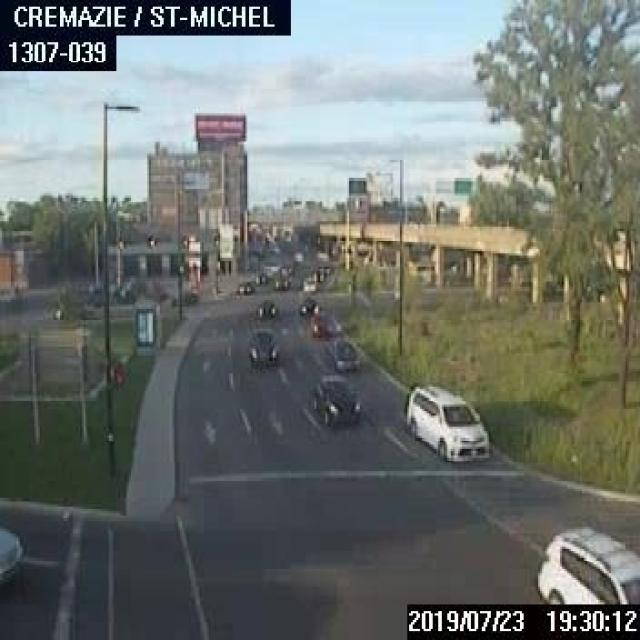vehicle: (535, 524, 638, 600), (404, 382, 489, 460), (309, 372, 364, 424), (0, 524, 24, 586), (322, 334, 358, 371), (246, 329, 278, 367), (309, 309, 340, 337), (47, 300, 94, 318), (298, 294, 317, 314), (256, 298, 274, 318), (236, 278, 252, 294), (300, 275, 316, 291), (273, 273, 288, 289), (311, 267, 323, 281), (254, 271, 266, 283), (317, 263, 330, 273)
